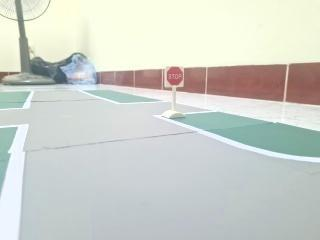stop: (163, 57, 193, 95)
